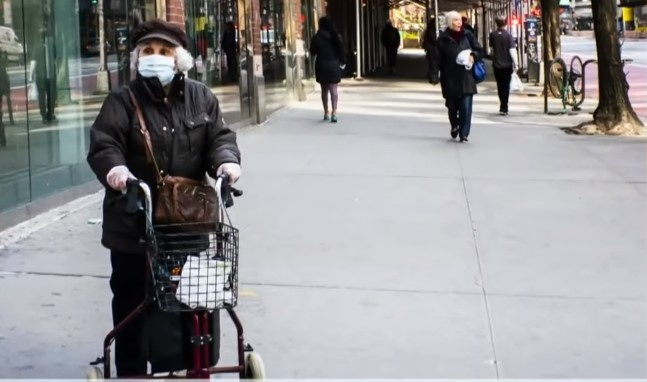face_no_mask: (447, 15, 464, 33)
face_with_mask: (132, 20, 184, 90)
